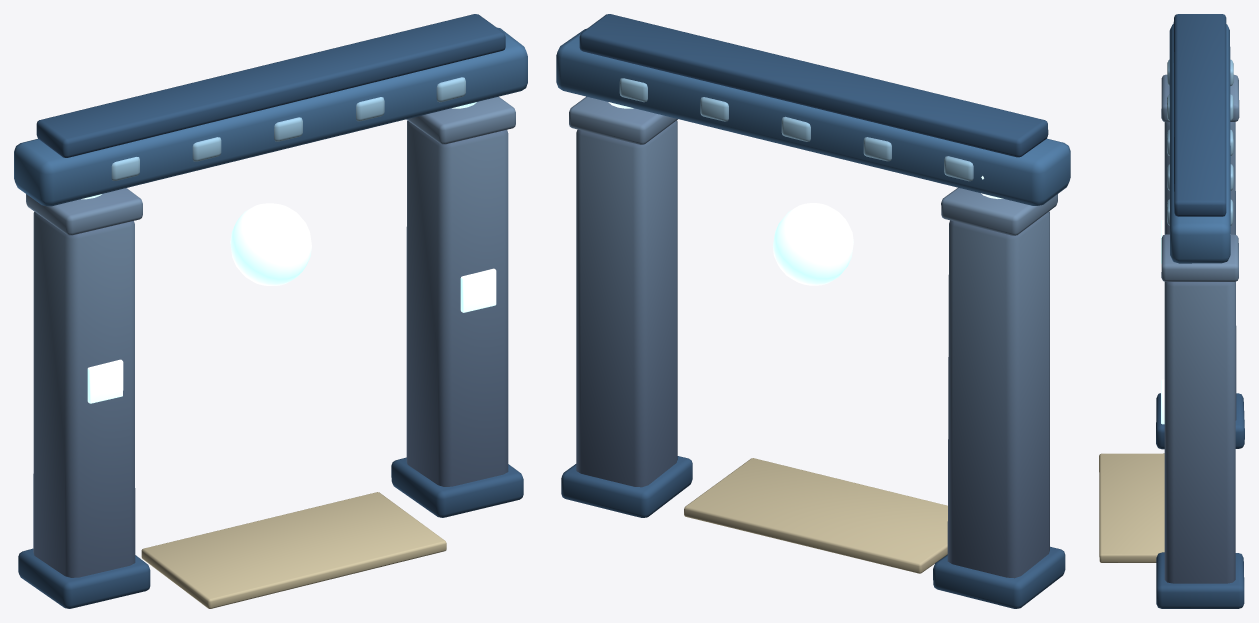
3 renders of one model, left to right at view 1: azimuth 30°, elevation 25°; view 2: azimuth 150°, elevation 25°; view 3: azimuth 270°, elevation 25°, orthographic. The views are drawn at different scales.
Visible parts, largest first — view 1: gate_1a9b0b8a; view 2: gate_1a9b0b8a; view 3: gate_1a9b0b8a.
Part boxes in pixels (x1,y1,x2,y2): gate_1a9b0b8a: (14,14,527,608); gate_1a9b0b8a: (556,14,1070,608); gate_1a9b0b8a: (1099,14,1244,608).
Bounding box in the file's own units: 4.92 × 4.45 × 1.45.
